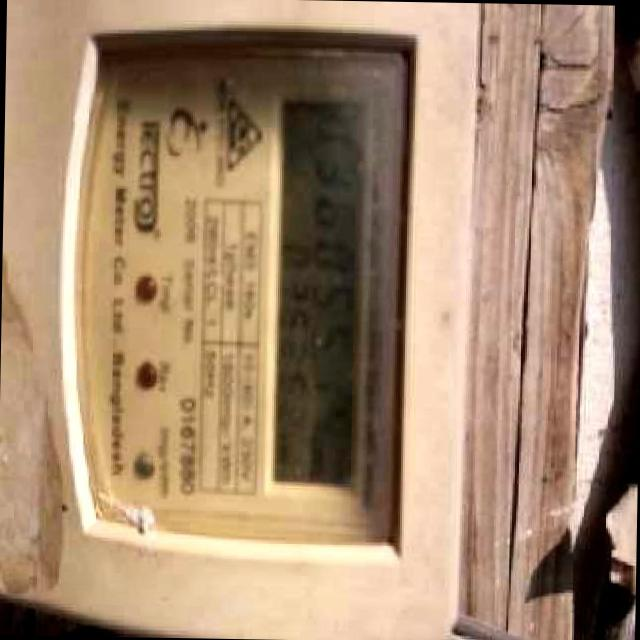LCD: (268, 84, 381, 506)
